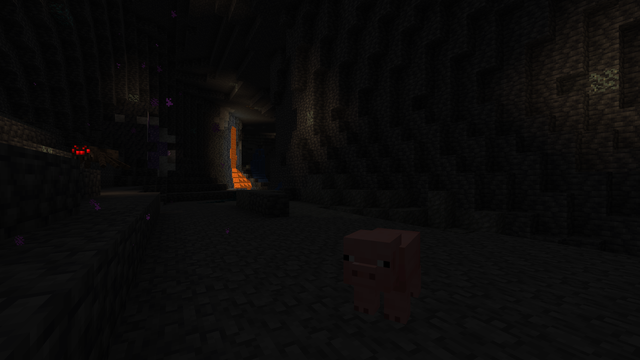araignees: (61, 141, 120, 169)
cochons: (341, 225, 440, 327)
